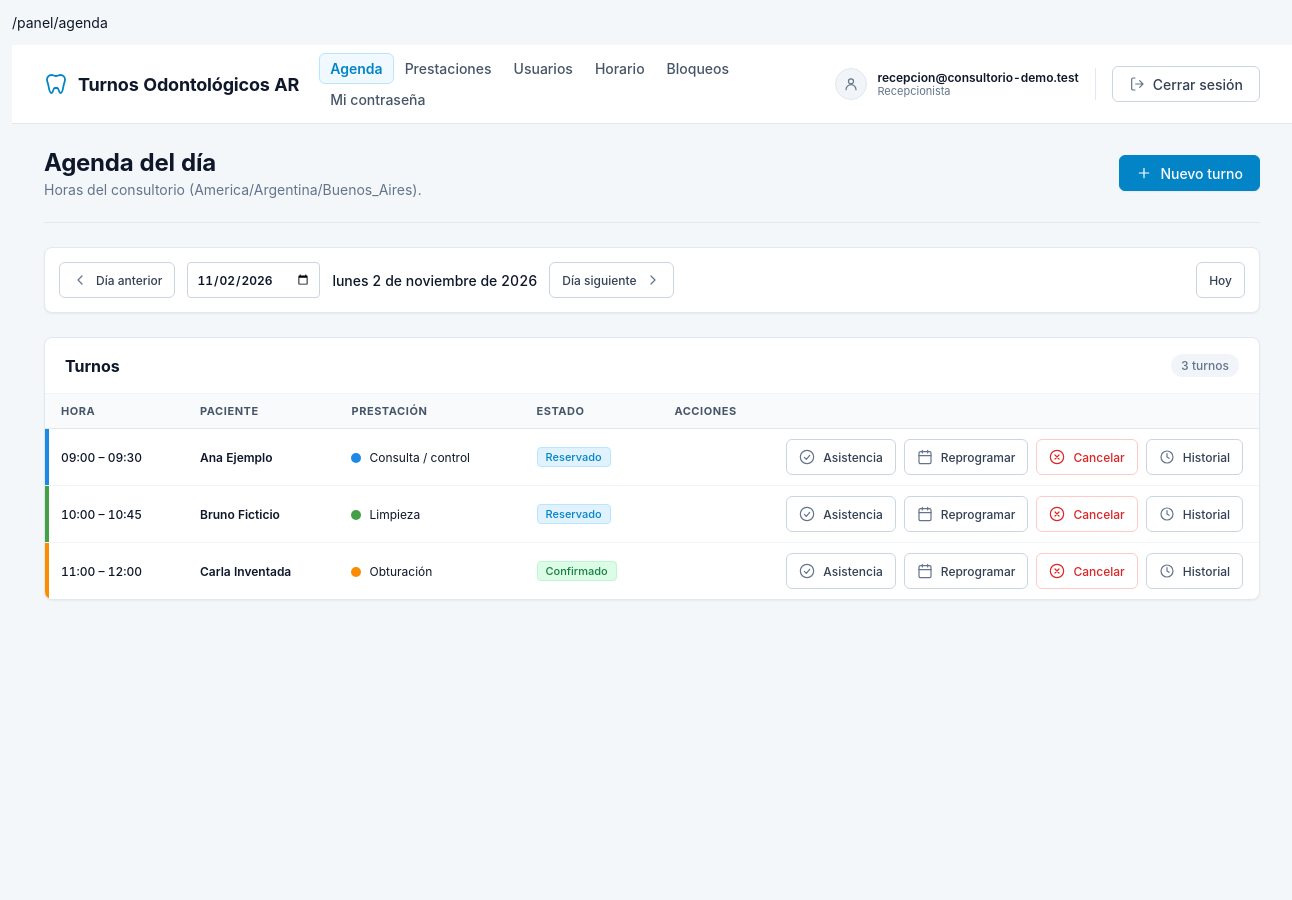
Test case: PanelCancelar: bordes › CAN-4c: cambiar de día cierra el panel sin mandar nada
Expected: the text "lunes 2 de noviembre de 2026" is shown, [332,272,537,288]
Click the button with aria-label "Cancelar el turno de Ana Ejemplo, 09:00".
click(1087, 457)  # box [1036,439,1138,475]
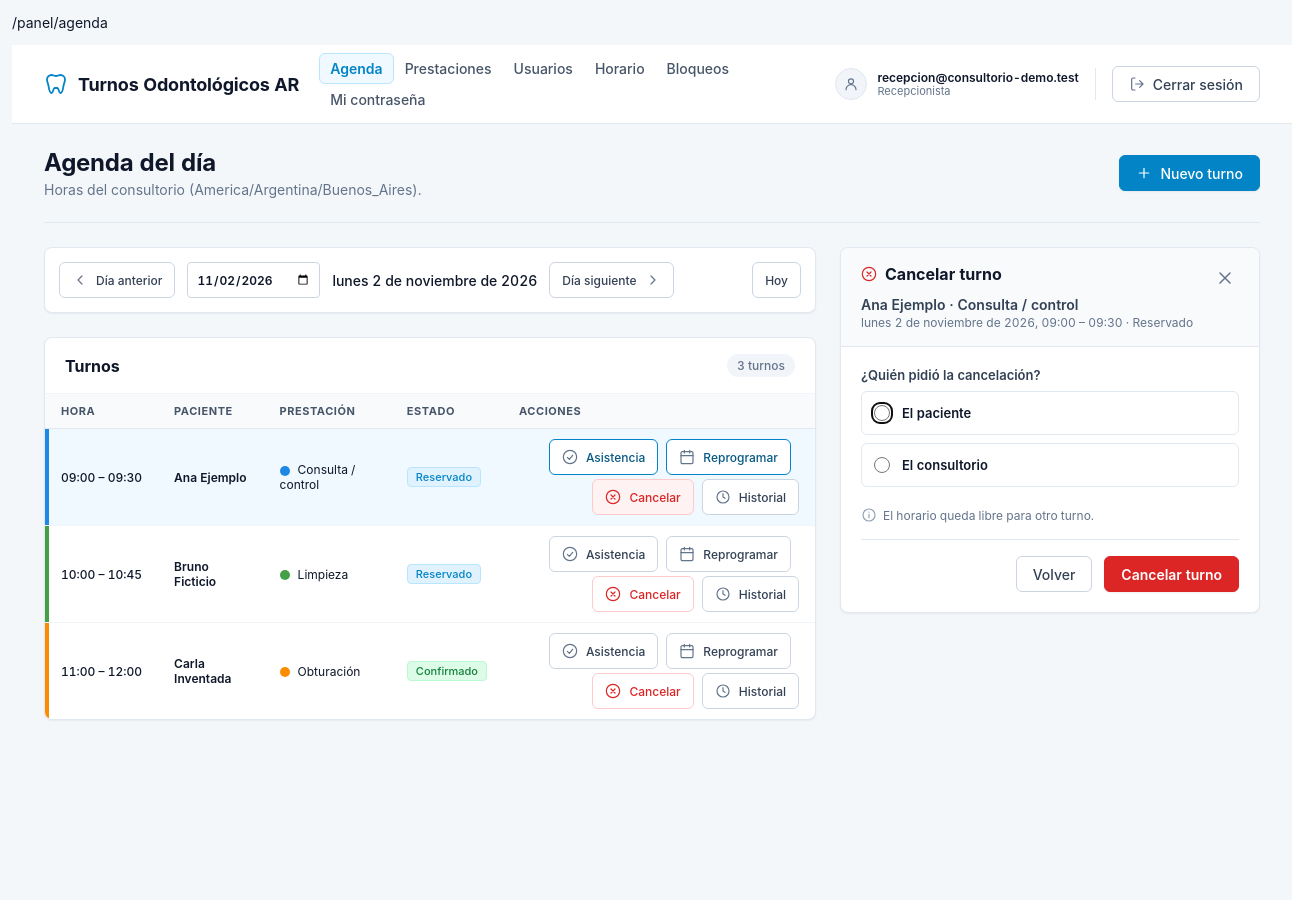
Click the radio button labelled "El paciente".
click(882, 413)  # box [874,405,890,421]
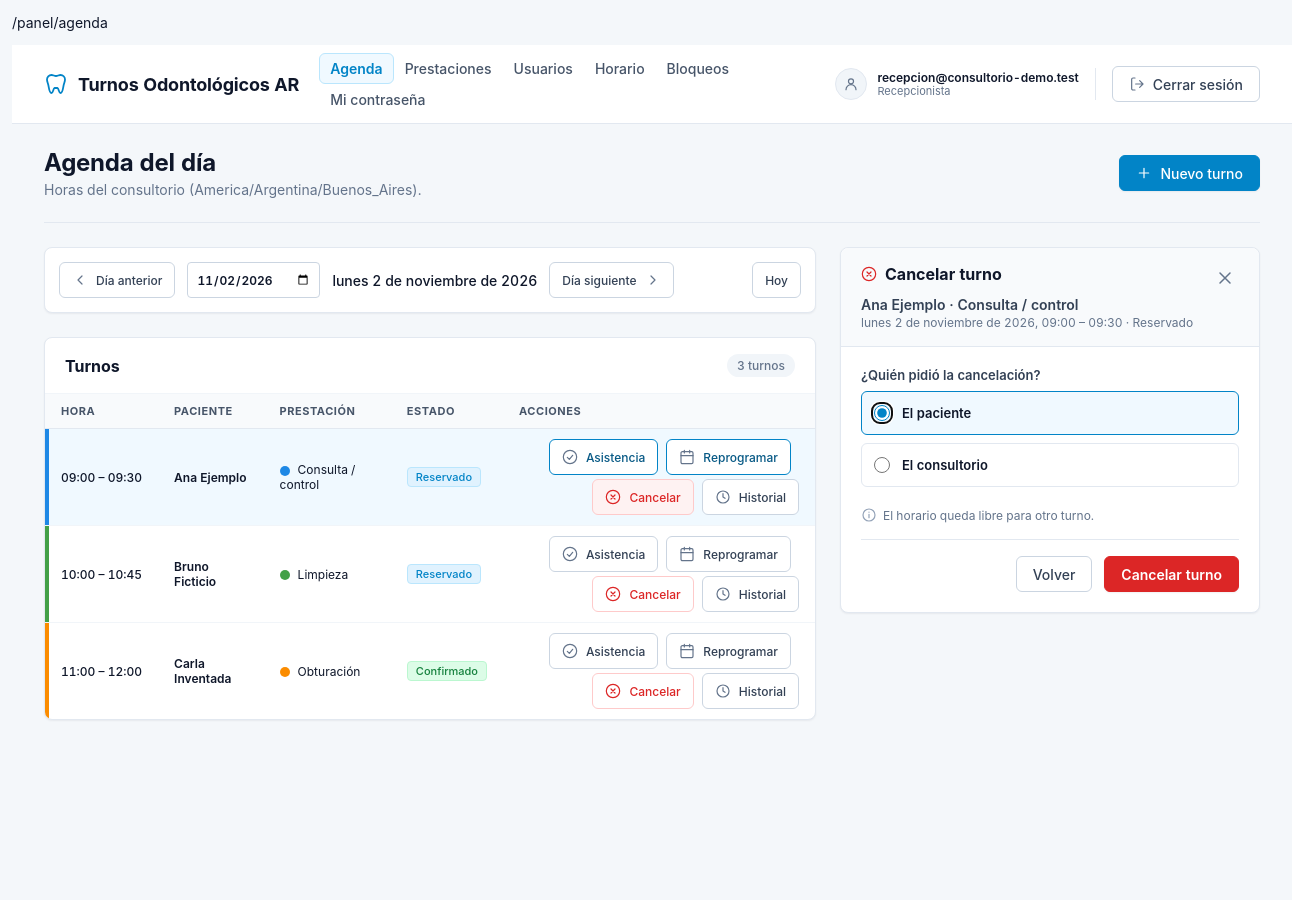
Click the button "Día siguiente".
click(611, 280)  # box [549,262,674,298]
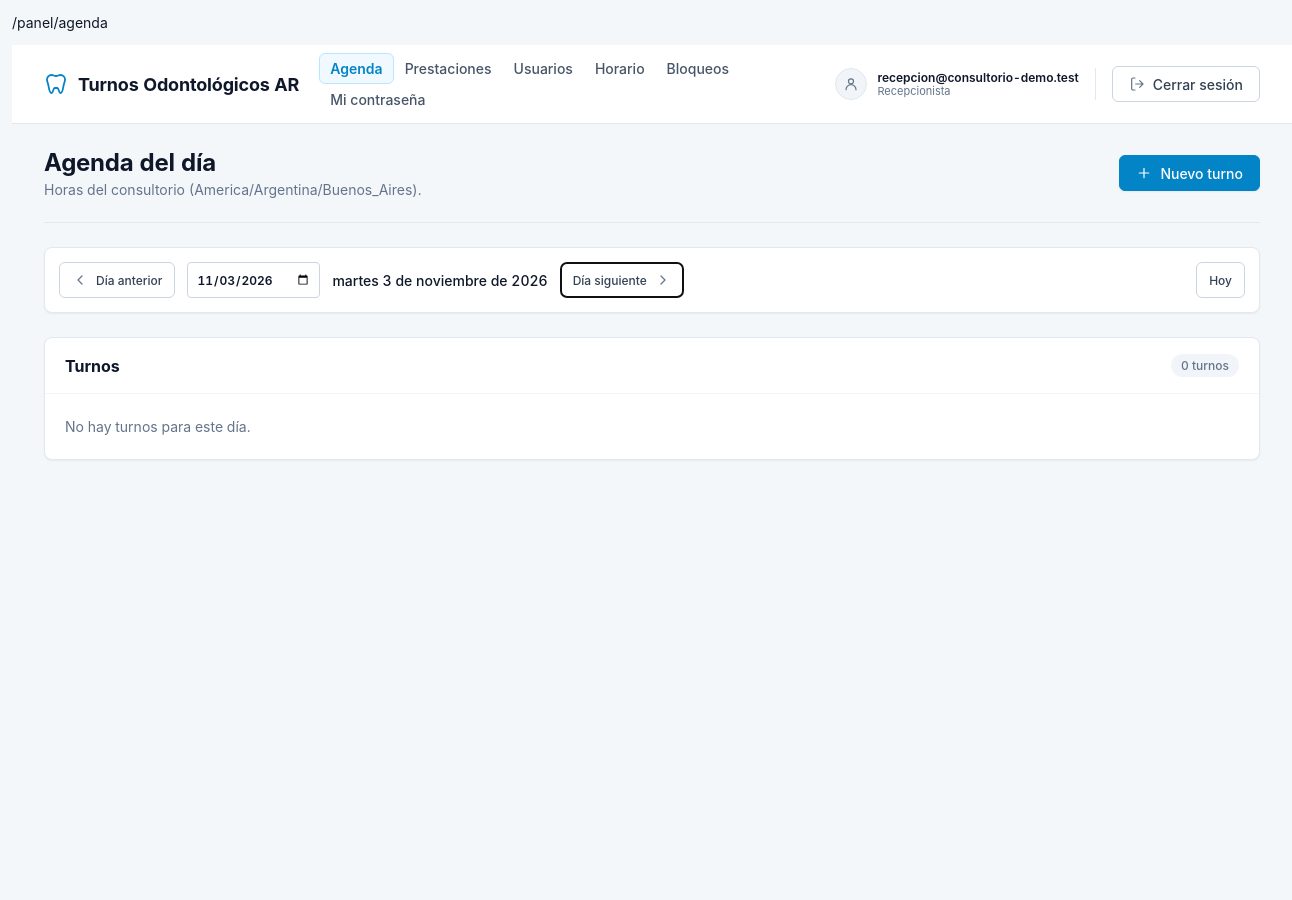
Expected: the text "martes 3 de noviembre de 2026" is shown, [332,272,548,288]
Expected: the heading "Cancelar turno" is gone
